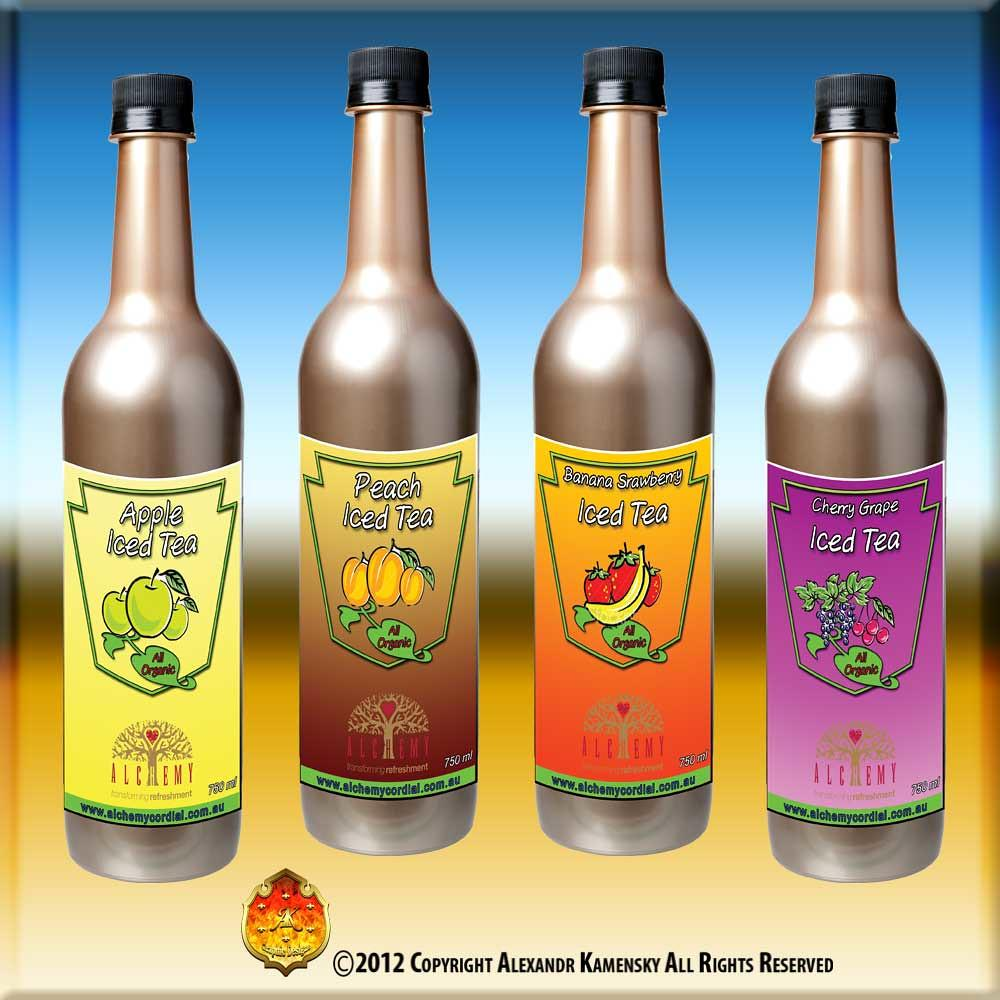bottle: (62, 72, 245, 883), (765, 73, 948, 884), (533, 45, 716, 856), (298, 45, 481, 856)
